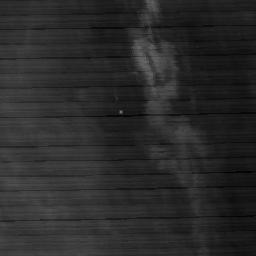Target: (117, 109, 125, 116)
